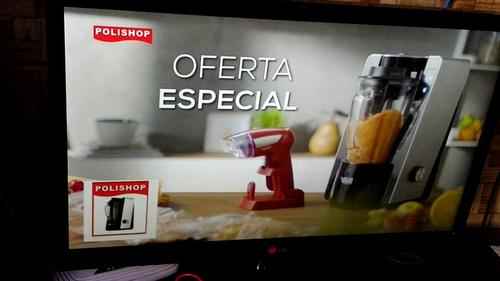Polishop #1: (83, 179, 159, 242)
